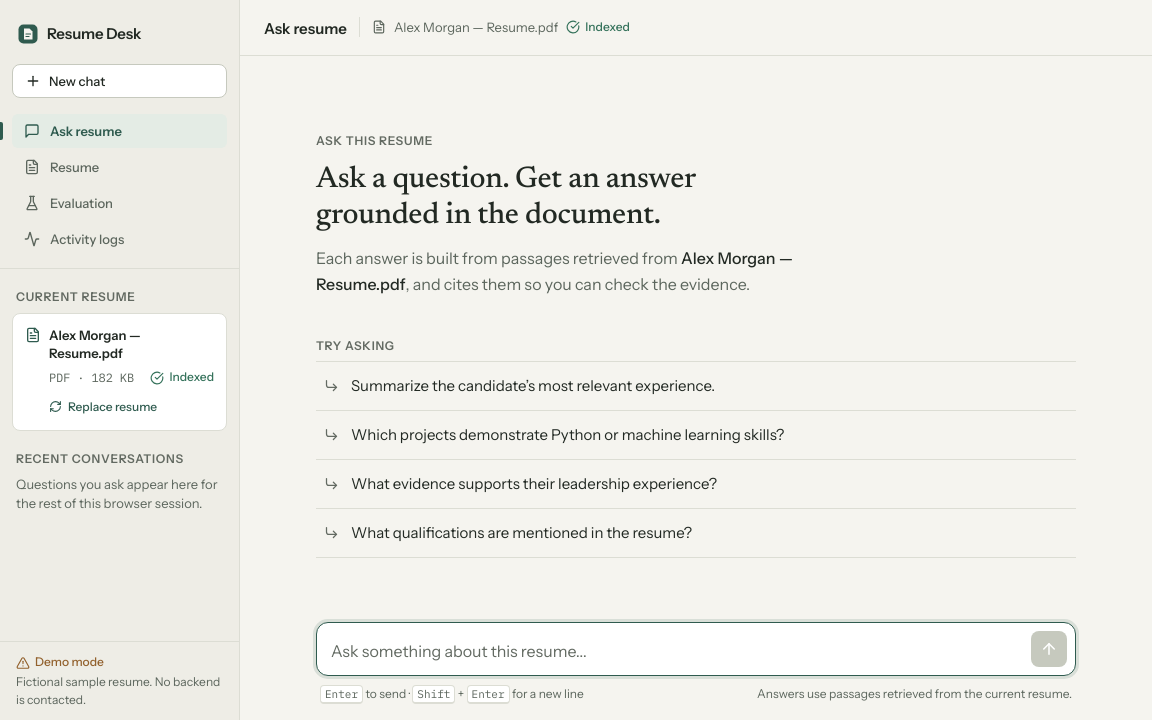
Scenario: chat flow (demo adapter) › shows a retryable error when the request fails
The image size is (1152, 720).
Type "Please simulate an error" into the text box named "Question about the resume" at (677, 651), box top-left (331, 635), bottom-right (1023, 667)
Then press Enter
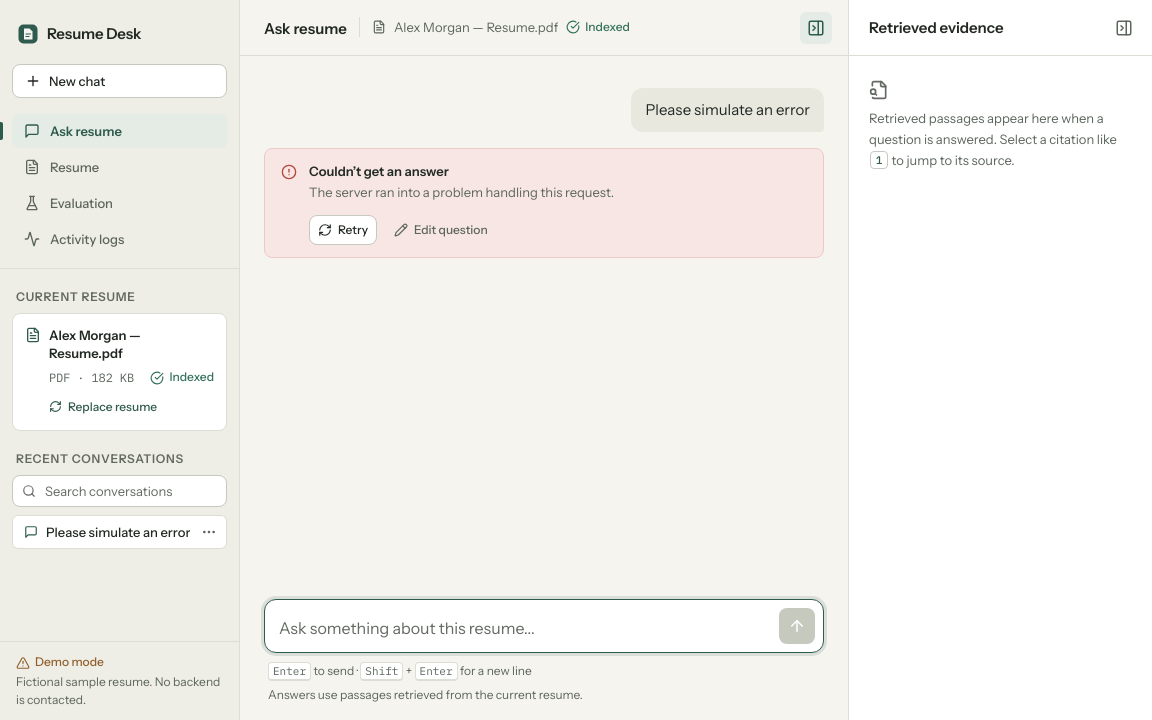
Check: the text "Couldn’t get an answer" is shown, box top-left (309, 163), bottom-right (449, 179)
Check: the button "Retry" is enabled, box top-left (309, 215), bottom-right (377, 245)
